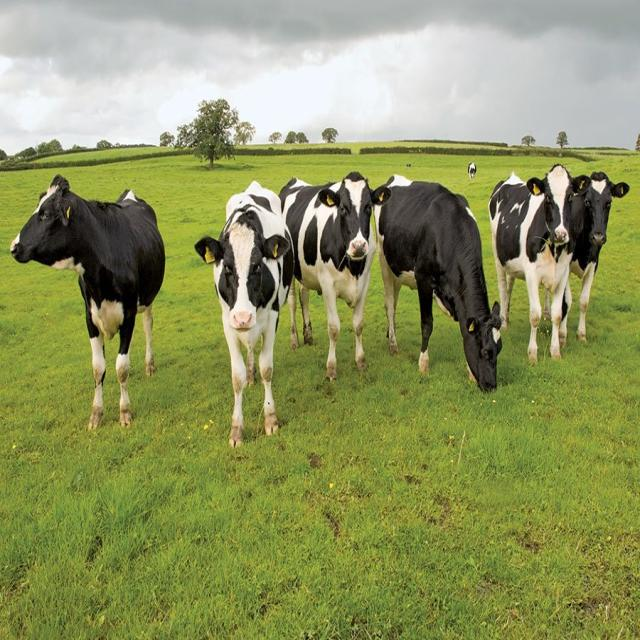cow: (34, 183, 141, 304), (200, 217, 286, 354), (451, 265, 515, 400), (321, 164, 382, 268), (535, 152, 577, 280), (588, 161, 616, 264)
